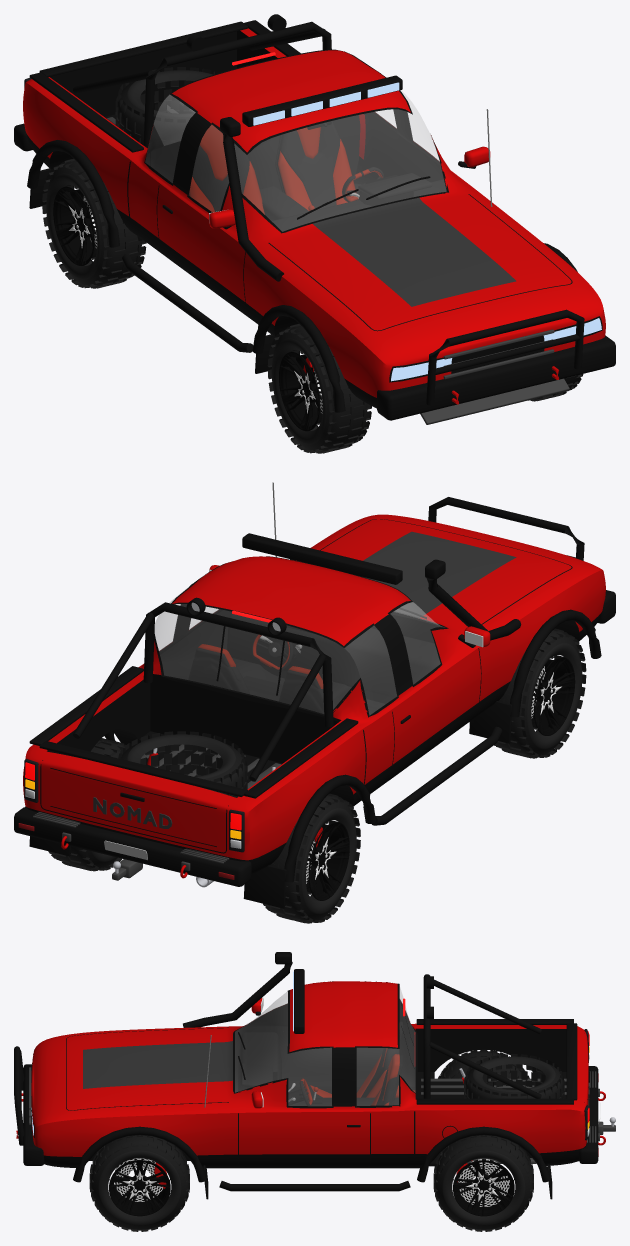
Rendered from nomad.glb.
3 renders of one model, top to bottom at view 1: azimuth 30°, elevation 25°; view 2: azimuth 150°, elevation 25°; view 3: azimuth 270°, elevation 25°, orthographic. The views are drawn at different scales.
Visible parts, largest first — view 1: BodyShell, BodyBumperF, Wheel_FR_Tire, Wheel_RR_Tire, InteriorLining, BodySpareTire, InteriorSeatLSeatsColor2, Wheel_RR_Rim, Wheel_FR_Rim, BodyRollBar, BodyWindowTrim, InteriorSeatLSeatsColor1 (+18 smaller); view 2: BodyShell, InteriorBulkhead, InteriorDashTop, BodyBumperR, Wheel_RR_Tire, Wheel_FR_Tire, BodySpareTire, InteriorLining, BodyRollBar, BodyLightBar, Wheel_FR_Rim, Wheel_RR_Rim (+18 smaller); view 3: BodyShell, Wheel_FL_Tire, Wheel_RL_Tire, InteriorLining, BodySpareTire, Wheel_FL_Rim, Wheel_RL_Rim, BodyWindowTrim, BodyArchF, BodyArchR, InteriorDashTop, BodyStep (+17 smaller).
Part boxes in pixels (bbox=[...]): BodyShell: bbox=[23, 28, 605, 408]; BodyBumperF: bbox=[377, 335, 615, 420]; Wheel_FR_Tire: bbox=[267, 323, 371, 453]; Wheel_RR_Tire: bbox=[42, 158, 146, 288]; InteriorLining: bbox=[146, 109, 443, 184]; BodySpareTire: bbox=[115, 67, 219, 147]; InteriorSeatLSeatsColor2: bbox=[280, 121, 361, 209]; Wheel_RR_Rim: bbox=[53, 186, 96, 265]; Wheel_FR_Rim: bbox=[279, 352, 322, 431]; BodyRollBar: bbox=[143, 21, 331, 146]; BodyWindowTrim: bbox=[144, 49, 448, 233]; InteriorSeatLSeatsColor1: bbox=[278, 127, 356, 210]; BodyShell: bbox=[23, 514, 605, 874]; InteriorBulkhead: bbox=[150, 676, 338, 763]; InteriorDashTop: bbox=[226, 613, 440, 697]; BodyBumperR: bbox=[14, 807, 251, 886]; Wheel_RR_Tire: bbox=[263, 793, 360, 923]; Wheel_FR_Tire: bbox=[494, 628, 586, 758]; BodySpareTire: bbox=[118, 731, 247, 797]; InteriorLining: bbox=[159, 585, 385, 708]; BodyRollBar: bbox=[143, 602, 333, 727]; BodyLightBar: bbox=[242, 533, 402, 584]; Wheel_FR_Rim: bbox=[531, 656, 575, 735]; Wheel_RR_Rim: bbox=[306, 821, 349, 900]; BodyShell: bbox=[31, 981, 588, 1168]; Wheel_FL_Tire: bbox=[89, 1135, 189, 1231]; Wheel_RL_Tire: bbox=[433, 1135, 533, 1231]; InteriorLining: bbox=[235, 999, 414, 1092]; BodySpareTire: bbox=[464, 1054, 564, 1098]; Wheel_FL_Rim: bbox=[109, 1160, 170, 1216]; Wheel_RL_Rim: bbox=[453, 1160, 514, 1216]; BodyWindowTrim: bbox=[233, 981, 417, 1108]; BodyArchF: bbox=[73, 1126, 206, 1182]; BodyArchR: bbox=[417, 1126, 550, 1182]; InteriorDashTop: bbox=[238, 1032, 281, 1091]; BodyStep: bbox=[219, 1181, 410, 1191].
Size of the model in its own units: 2.34 by 2.05 by 5.74.
33 materials, 2 textured.
